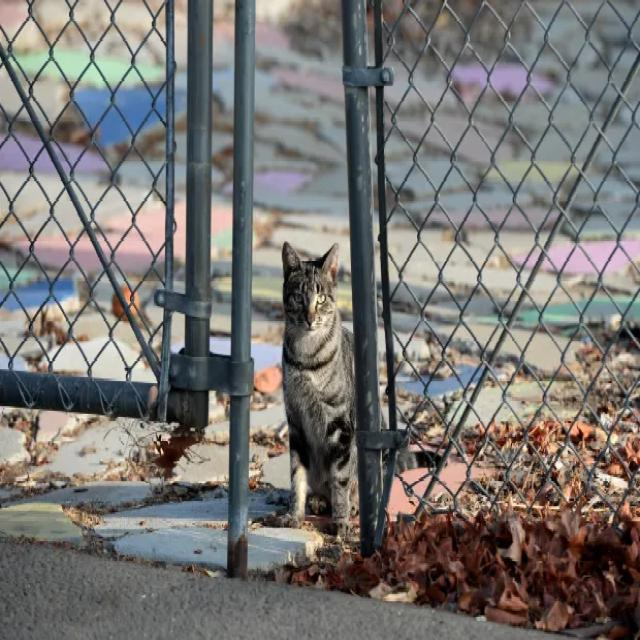cat: (280, 242, 358, 534)
